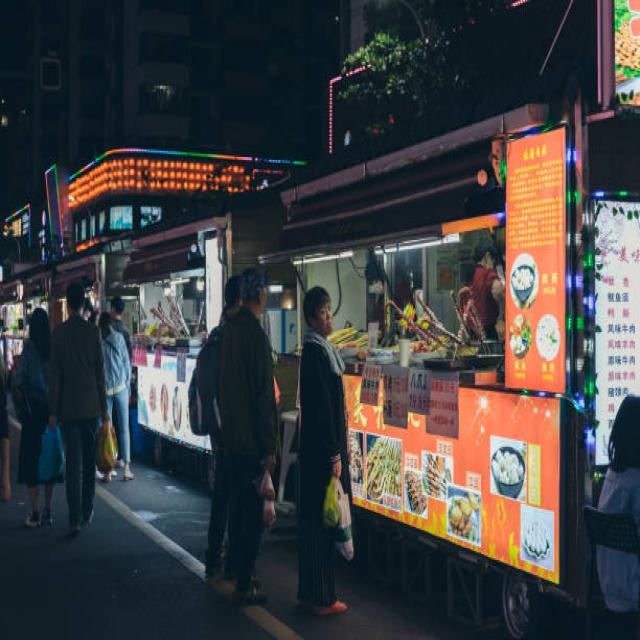Emperan: (271, 0, 640, 637), (120, 177, 271, 502)
